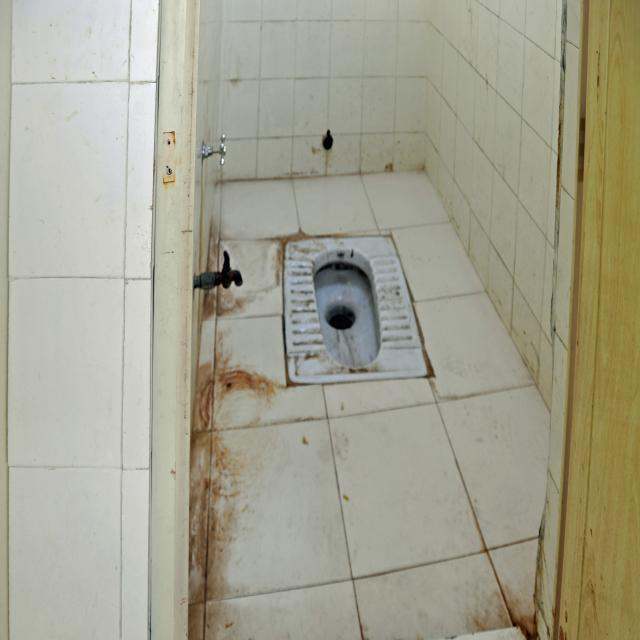dirty_floor: (6, 0, 578, 638), (189, 167, 550, 637), (186, 219, 246, 637), (279, 229, 431, 386)
